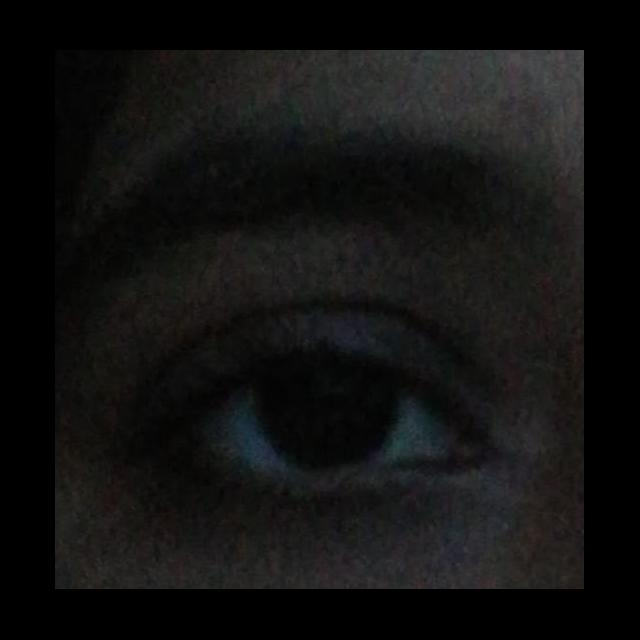eye: (185, 363, 458, 478)
iris: (254, 372, 402, 468)
